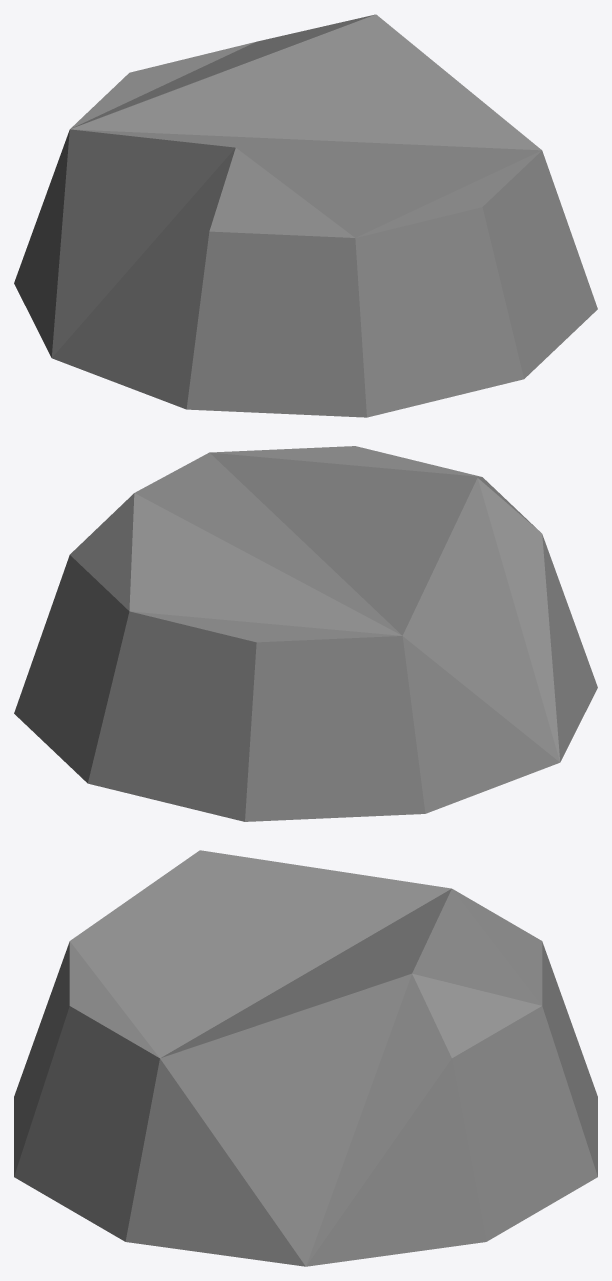
The model's file is Rock 2.fbx.
3 renders of one model, top to bottom at view 1: azimuth 30°, elevation 25°; view 2: azimuth 150°, elevation 25°; view 3: azimuth 270°, elevation 25°, orthographic. The views are drawn at different scales.
Visible parts, largest first — view 1: Rock_2; view 2: Rock_2; view 3: Rock_2.
Part boxes in pixels (<box>): Rock_2: <box>14,14,597,417</box>; Rock_2: <box>14,446,597,821</box>; Rock_2: <box>14,850,597,1266</box>.
Size of the model in its own units: 53.35 by 21.58 by 50.74.
1 material, 1 textured.
